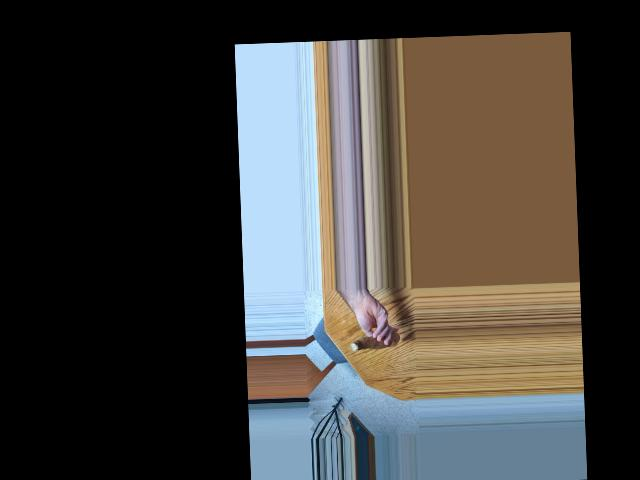sweet_potato: (345, 333, 400, 351)
